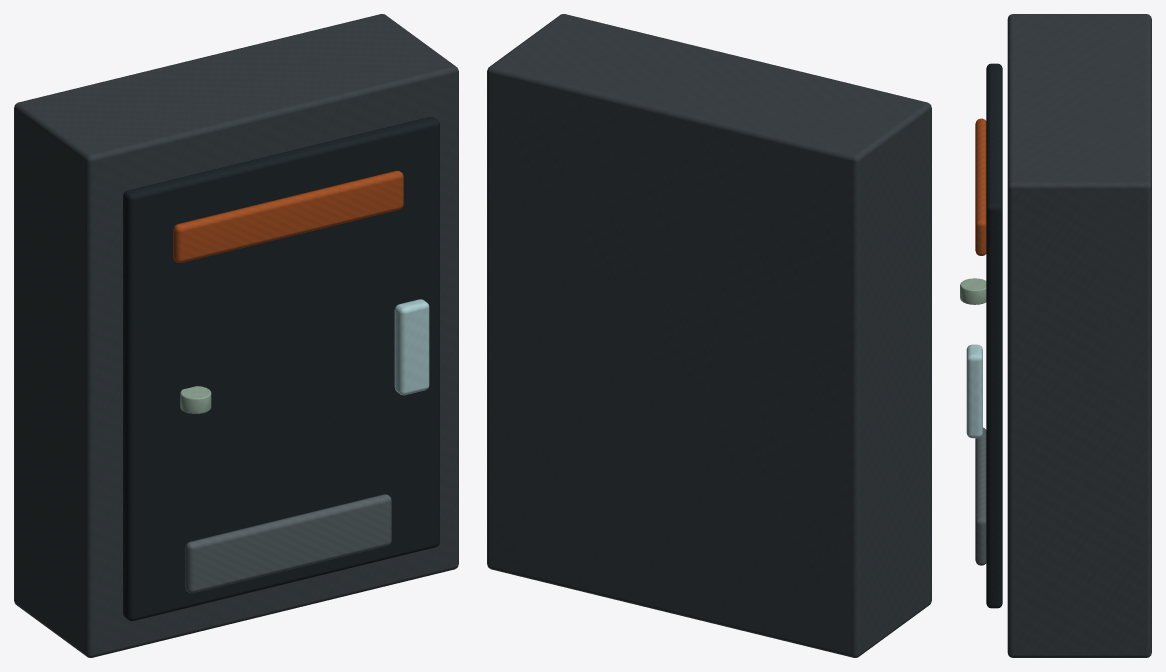
File: WallJunctionBox.fbx
The picture shows the model from 3 angles, left to right: view 1: azimuth 30°, elevation 25°; view 2: azimuth 150°, elevation 25°; view 3: azimuth 270°, elevation 25°; orthographic projection. The views are drawn at different scales.
Visible parts, largest first — view 1: WallJunctionBox_Mesh; view 2: WallJunctionBox_Mesh; view 3: WallJunctionBox_Mesh.
Boxes of the visible parts, left/top/right/bottom form: WallJunctionBox_Mesh: left=14, top=14, right=458, bottom=657; WallJunctionBox_Mesh: left=487, top=14, right=931, bottom=657; WallJunctionBox_Mesh: left=960, top=14, right=1151, bottom=657.
Size of the model in its own units: 62 by 80 by 29.25.
